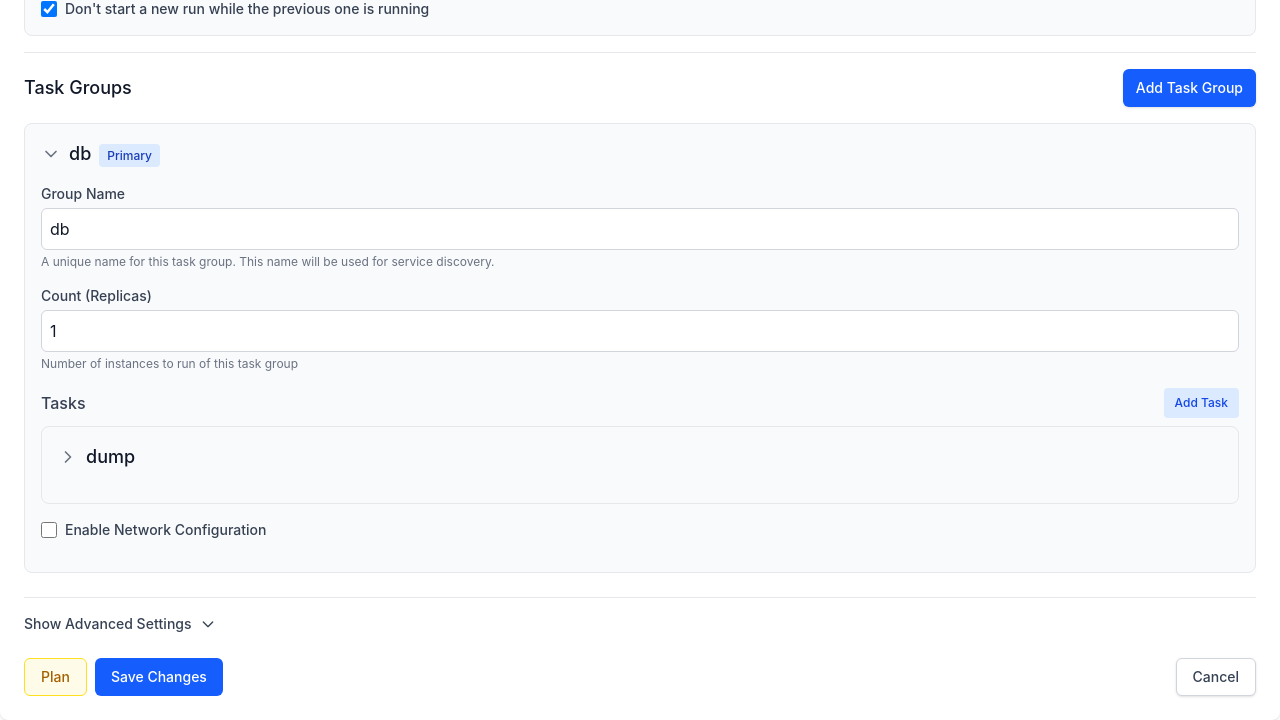
Test: JobForm › the plan of a paused periodic job says allocations come with each launch
The width and height of the screenshot is (1280, 720).
(page scrolled)
Click the button "Plan".
click(55, 677)  # box x1=24 y1=658 x2=87 y2=696
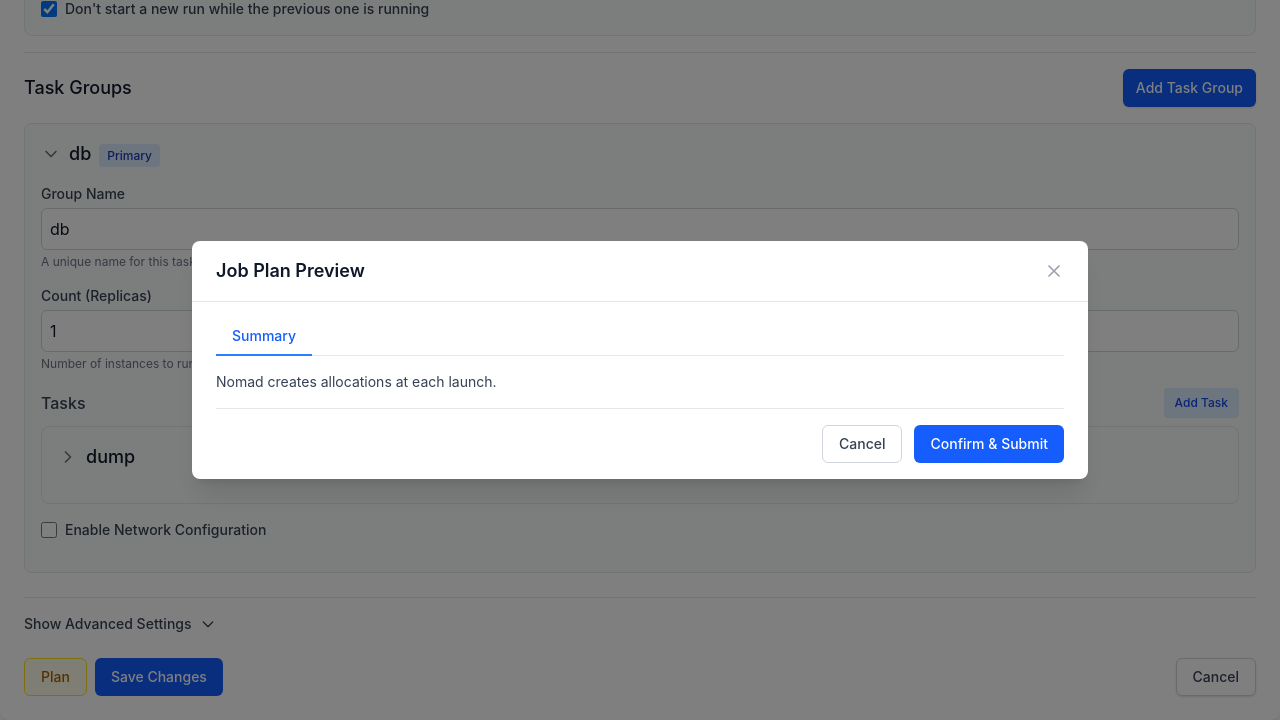
Result: the text "Nomad creates allocations at each launch." is shown at x1=216 y1=373 x2=497 y2=390
